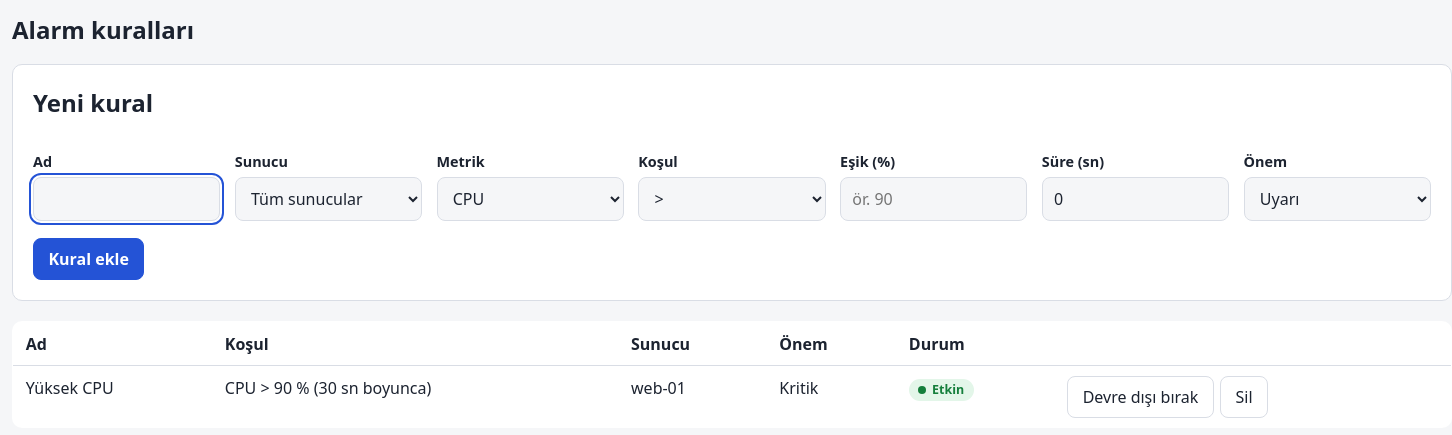
Test: RulesPage › devre dışı bırakma: TAM gövdeyi gönderir (yalnızca enabled değişir) ve liste yenilenir
Click the button "Devre dışı bırak".
click(1141, 397)  # box [1067,376,1214,418]
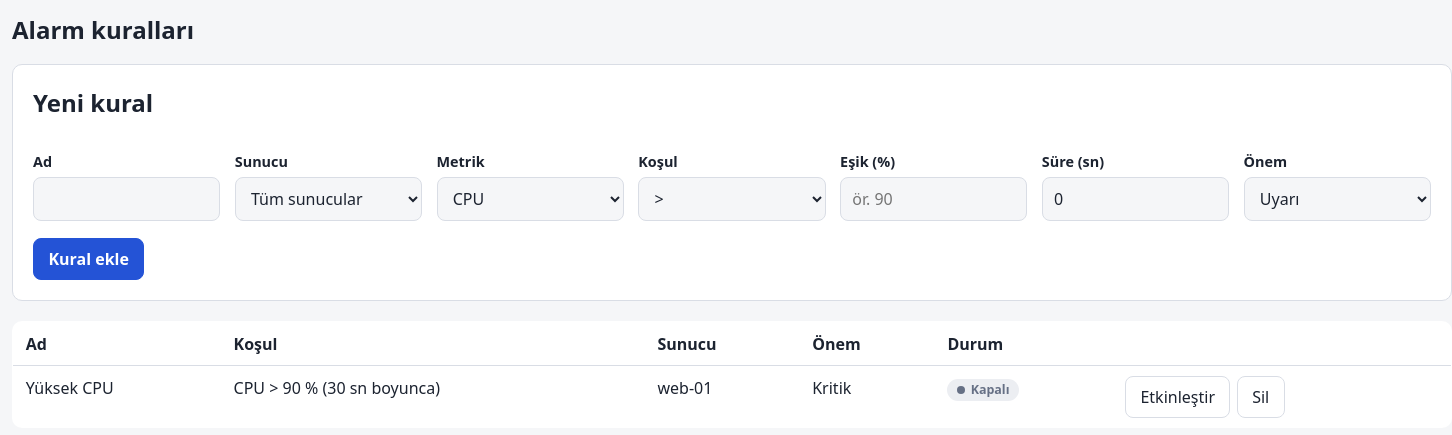
Result: the button "Etkinleştir" is shown at [1125,376,1230,418]
